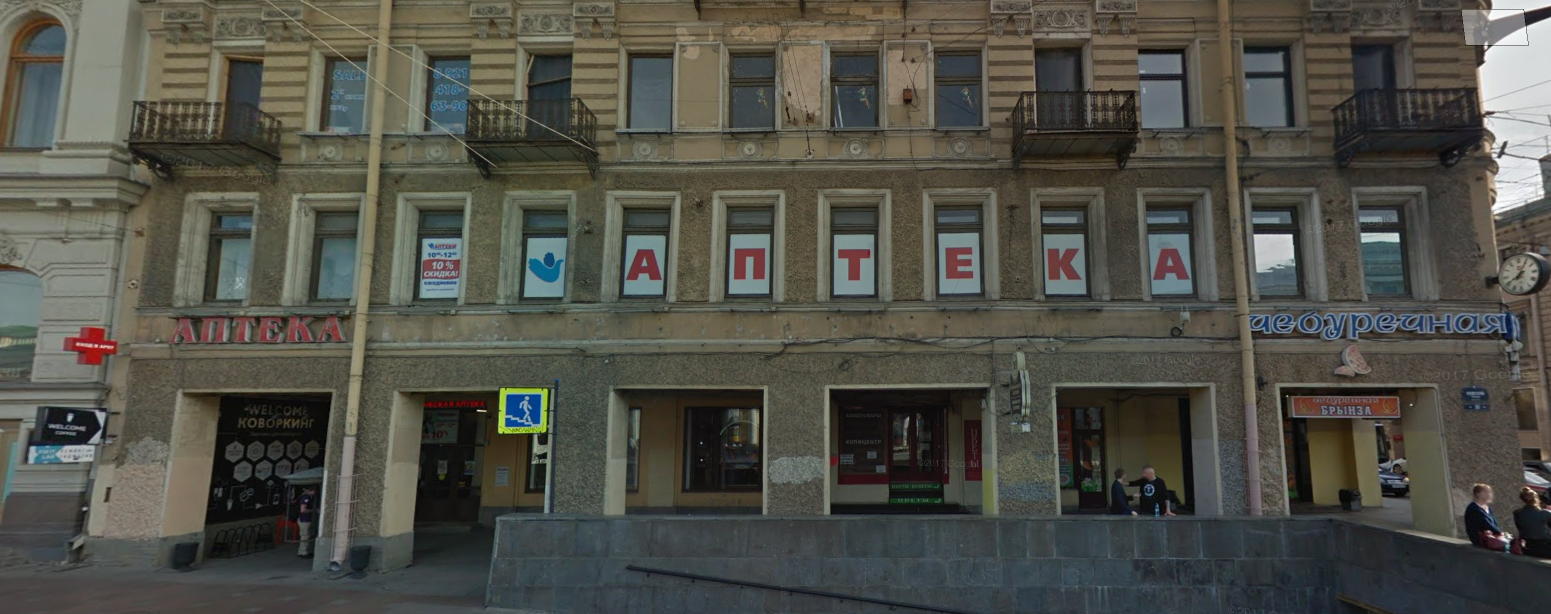cantilever: (989, 348, 1039, 440), (60, 321, 118, 369)
signboard: (1247, 307, 1510, 341), (171, 309, 356, 351)
win_ad: (1144, 234, 1195, 299), (1037, 232, 1087, 295), (833, 232, 879, 298), (728, 232, 769, 297), (937, 231, 978, 294), (418, 236, 458, 299), (629, 230, 664, 300), (527, 234, 565, 298)
window: (1361, 197, 1418, 303), (1140, 202, 1201, 301), (1248, 204, 1312, 298), (306, 205, 362, 302), (516, 203, 571, 300), (1035, 207, 1092, 298), (204, 201, 256, 300), (618, 208, 673, 298), (412, 205, 464, 300), (1236, 41, 1290, 130), (828, 204, 881, 294), (1033, 46, 1090, 128), (938, 202, 987, 297), (724, 209, 773, 302), (1138, 46, 1194, 127), (828, 49, 881, 132), (931, 51, 983, 130), (416, 57, 472, 127), (628, 47, 673, 134), (731, 51, 777, 134), (323, 55, 368, 129)
